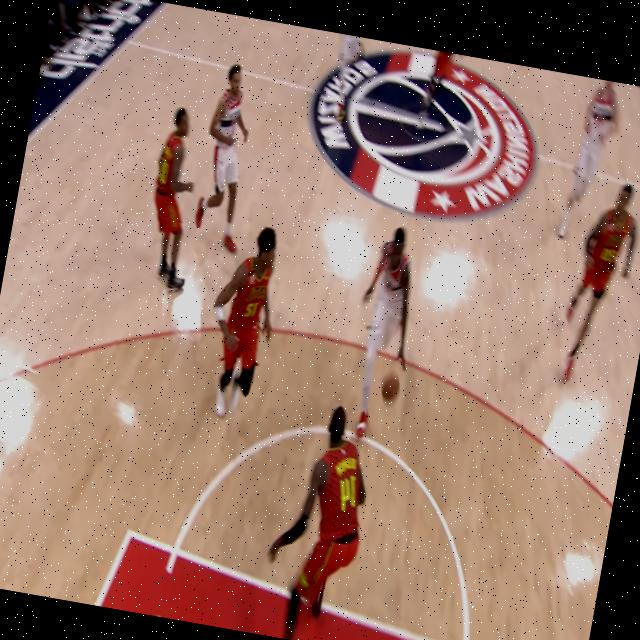no foul: (68, 36, 336, 427)
